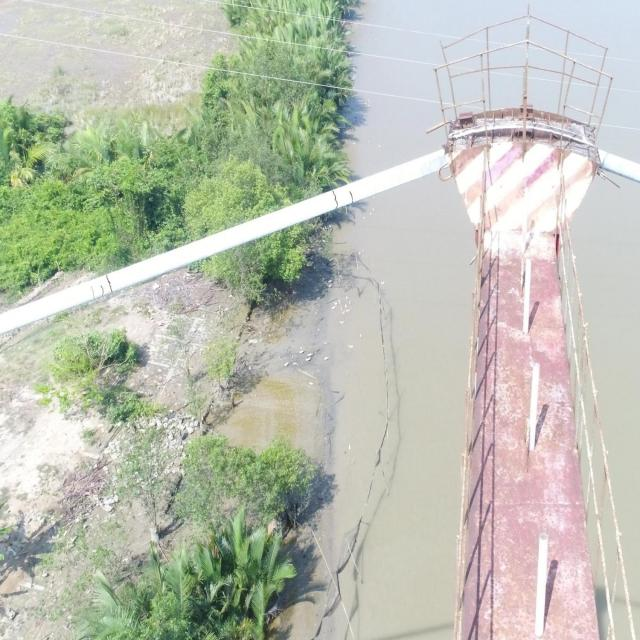crack: (105, 274, 114, 292), (331, 190, 339, 208), (91, 285, 95, 299), (349, 191, 353, 203), (100, 285, 104, 296)
